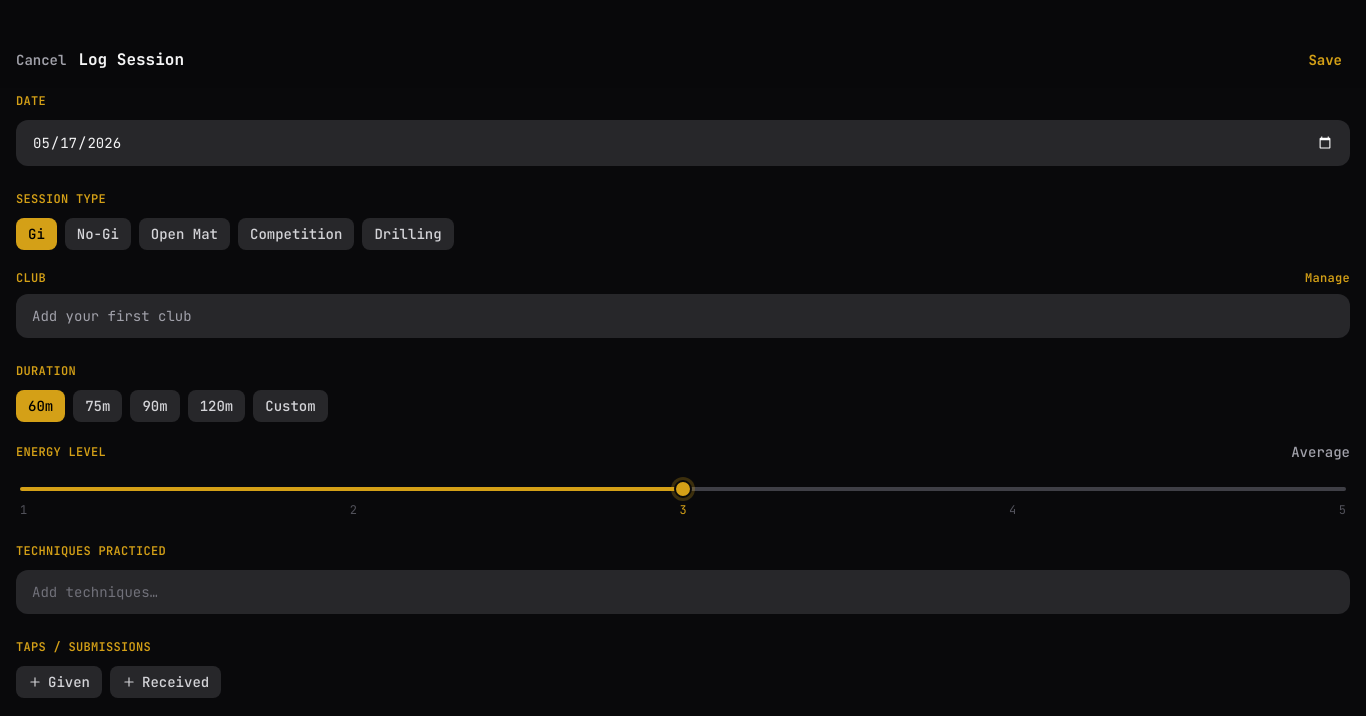
Test: AddEditSessionPage — tap tracking › opens tap-received picker when clicking + Received
This screenshot has width=1366, height=716.
Click the button "Received".
click(166, 682)  # box [110, 666, 221, 698]
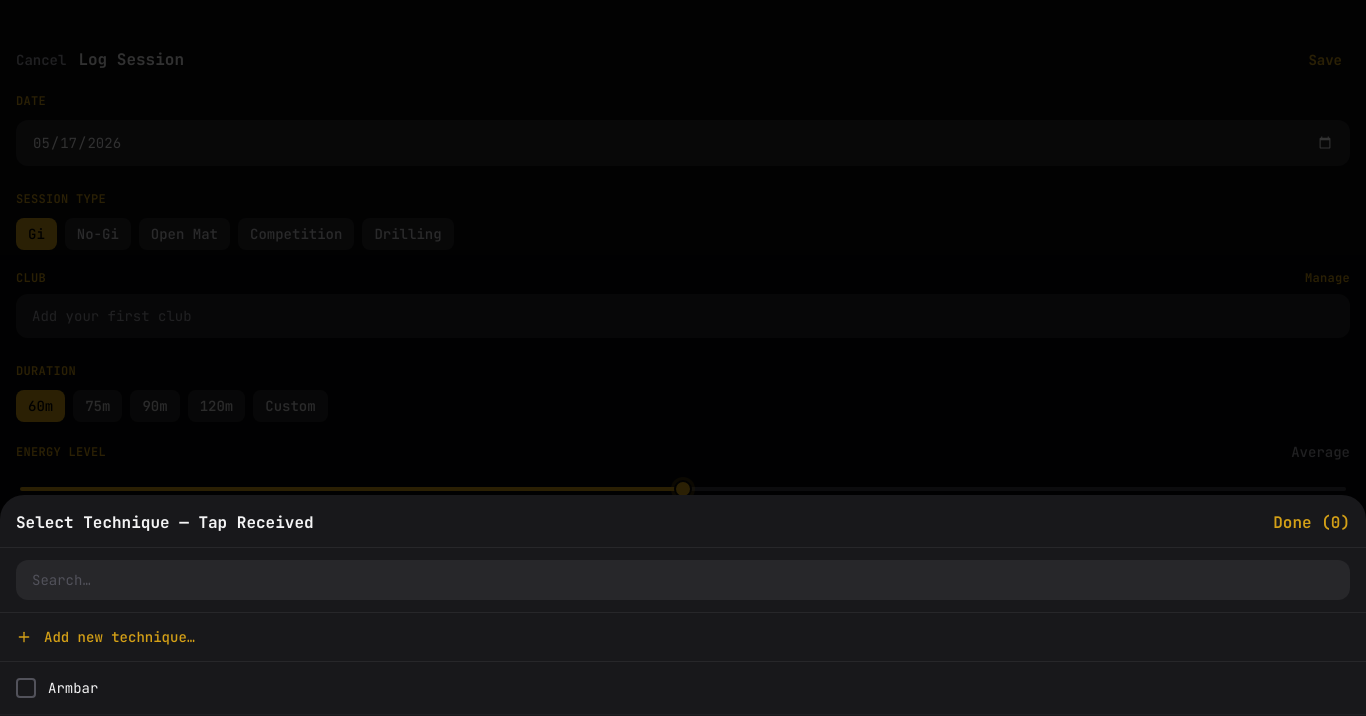
Expected: the heading "Select Technique — Tap Received" is shown, [16, 512, 314, 533]
